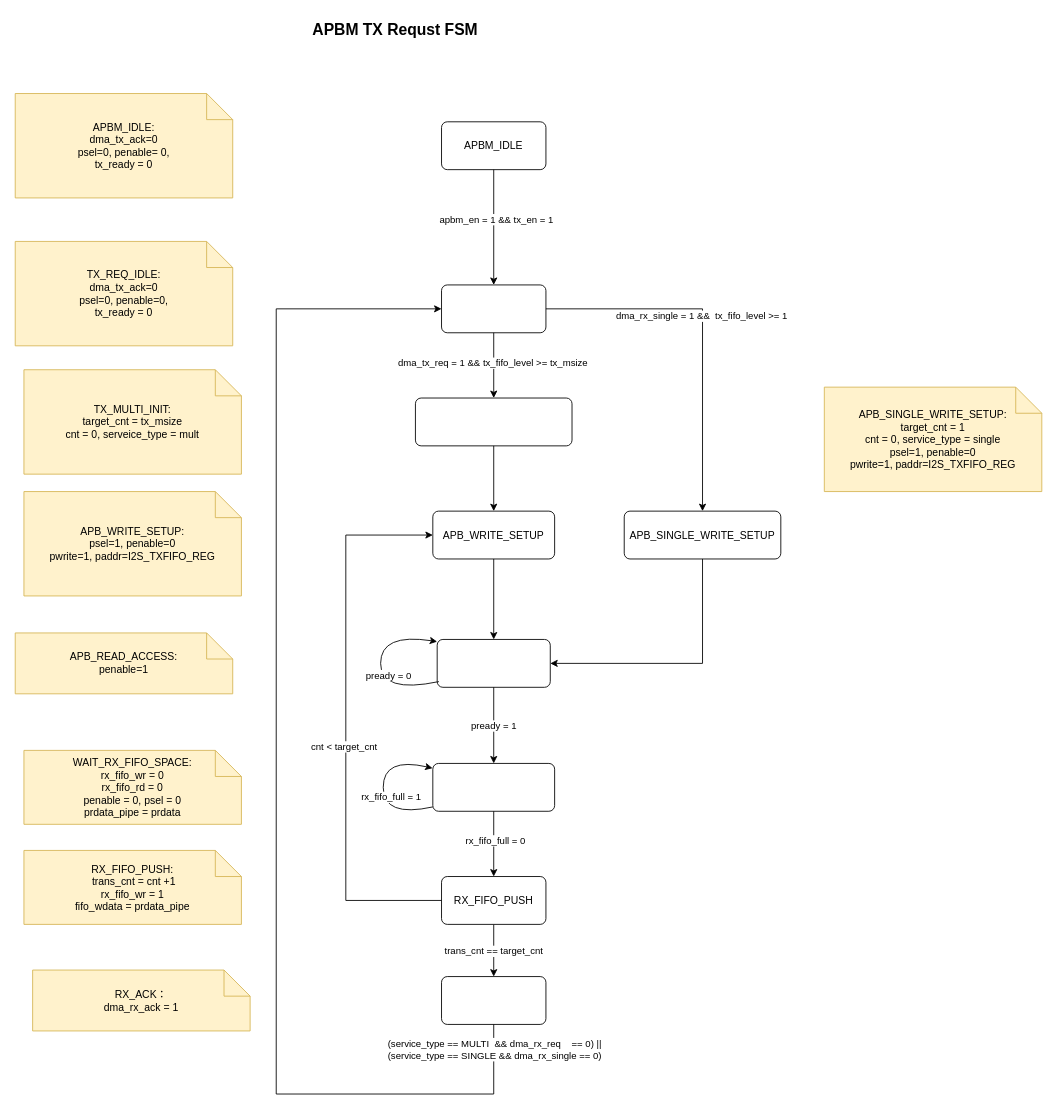
This 1057x1116 diagram has some shape labels left out. The box of each missing label's shape, as (x1, y1, x2, y2) in pixels:
APB_READ_ACCESS: (436, 639, 550, 687)
RX_ACK: (441, 976, 546, 1024)
TX_MULTI_INIT: (415, 397, 572, 446)
TX_REQ_IDLE: (441, 284, 546, 333)
WAIT_RX_FIFO_SPACE: (432, 763, 555, 811)
